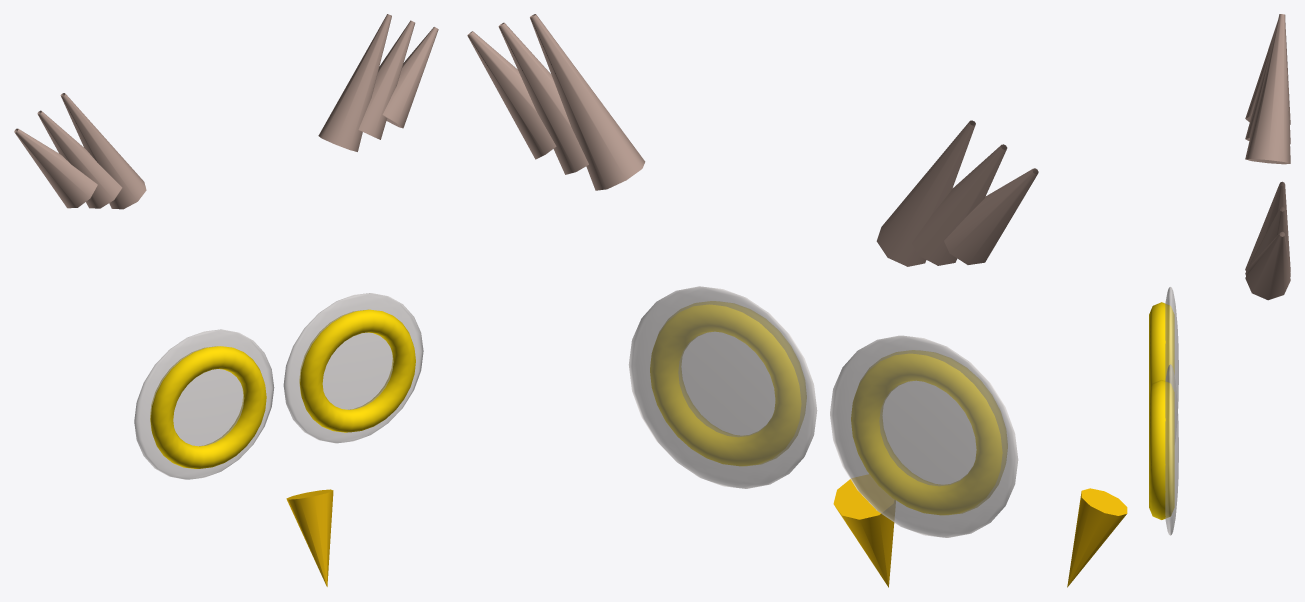
Rendered from owl.glb.
3 views of the same model, side by side, from view 1: azimuth 30°, elevation 25°; view 2: azimuth 150°, elevation 25°; view 3: azimuth 270°, elevation 25° (orthographic). The views are drawn at different scales.
Visible parts, largest first — view 1: face_disc, tufts, eye_rings, beak; view 2: face_disc, eye_rings, tufts, beak; view 3: tufts, eye_rings, face_disc, beak.
Part boxes in pixels (x1=…): face_disc: x1=134, y1=293, x2=423, y2=479; tufts: x1=14, y1=14, x2=438, y2=209; eye_rings: x1=150, y1=309, x2=415, y2=468; beak: x1=286, y1=489, x2=333, y2=586; face_disc: x1=628, y1=286, x2=1018, y2=537; eye_rings: x1=650, y1=301, x2=1007, y2=515; tufts: x1=467, y1=14, x2=1038, y2=266; beak: x1=833, y1=474, x2=895, y2=587; tufts: x1=1245, y1=14, x2=1290, y2=300; eye_rings: x1=1149, y1=302, x2=1174, y2=519; face_disc: x1=1165, y1=287, x2=1178, y2=535; beak: x1=1067, y1=488, x2=1127, y2=587.
Size of the model in its own units: 1.82 by 1.88 by 0.7796.
